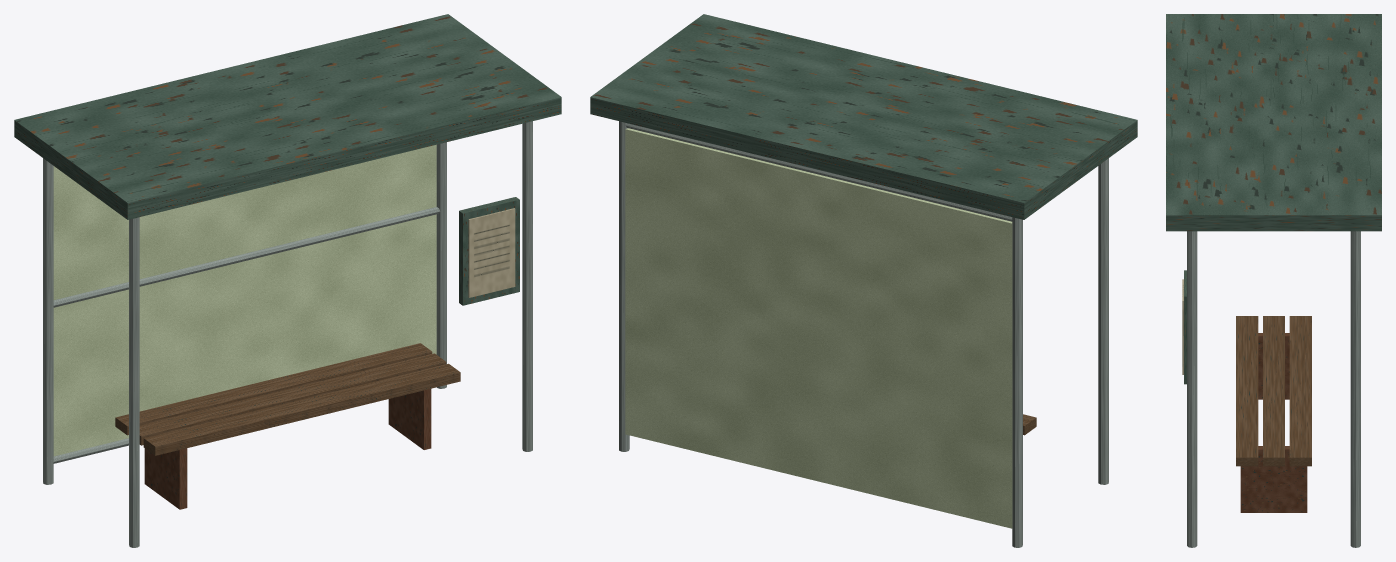
File: BusShelter.obj
3 views of the same model, side by side, from view 1: azimuth 30°, elevation 25°; view 2: azimuth 150°, elevation 25°; view 3: azimuth 270°, elevation 25° (orthographic). The views are drawn at different scales.
Visible parts, largest first — view 1: BusShelter; view 2: BusShelter; view 3: BusShelter.
Boxes of the visible parts, left/top/right/bottom form: BusShelter: left=14, top=14, right=561, bottom=547; BusShelter: left=590, top=14, right=1137, bottom=547; BusShelter: left=1166, top=14, right=1381, bottom=547.
Bounding box in the file's own units: 3.2 × 2.52 × 1.45.
6 materials, 6 textured.
